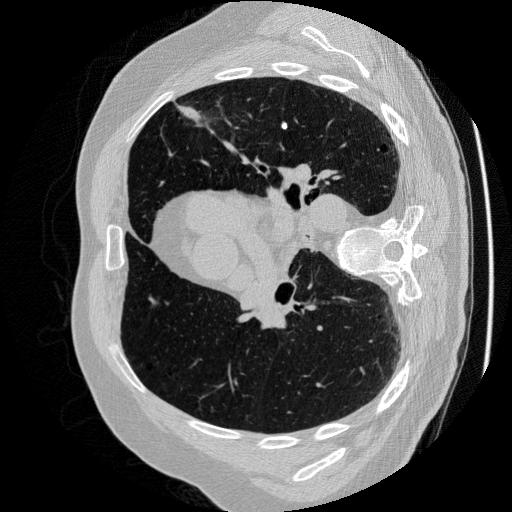nodule: (279, 121, 291, 133)
